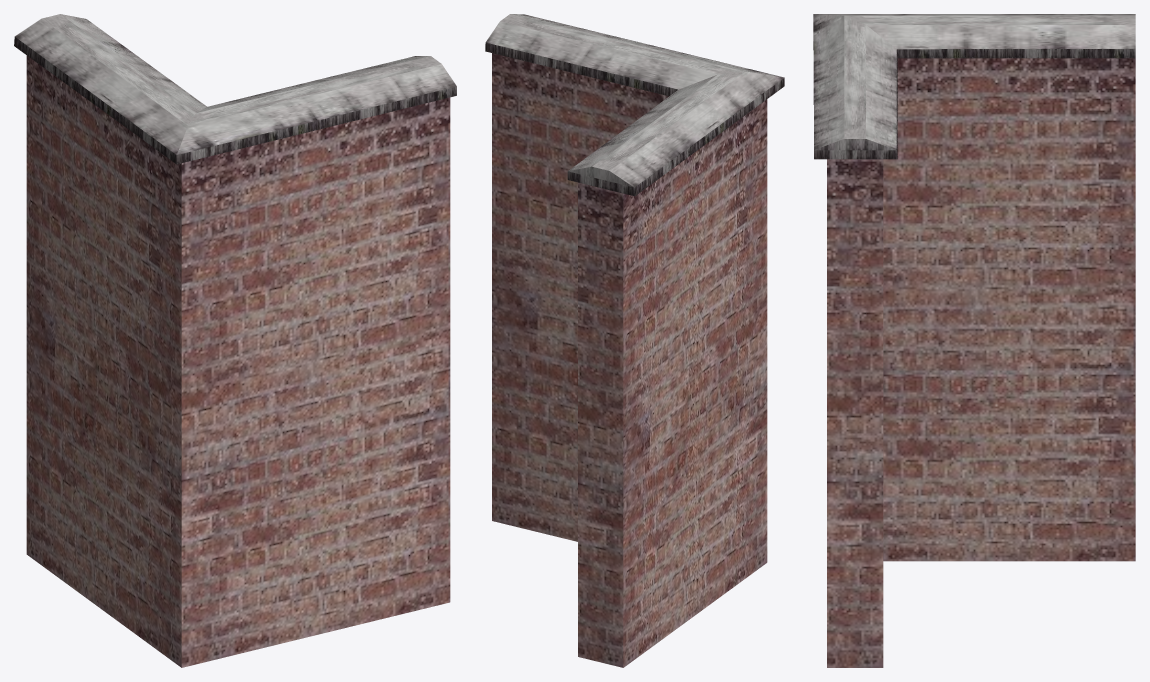
File: Urban_BrickWallCorner_Model.fbx
The picture shows the model from 3 angles, left to right: view 1: azimuth 30°, elevation 25°; view 2: azimuth 150°, elevation 25°; view 3: azimuth 270°, elevation 25°; orthographic projection. The views are drawn at different scales.
Visible parts, largest first — view 1: Urban_BrickWallCorner_Mesh; view 2: Urban_BrickWallCorner_Mesh; view 3: Urban_BrickWallCorner_Mesh.
Boxes of the visible parts, x1,y1,x2,y2 form: Urban_BrickWallCorner_Mesh: (14, 14, 456, 667); Urban_BrickWallCorner_Mesh: (485, 14, 784, 667); Urban_BrickWallCorner_Mesh: (813, 14, 1135, 667).
Bounding box in the file's own units: 1.15 × 2.08 × 1.15.
